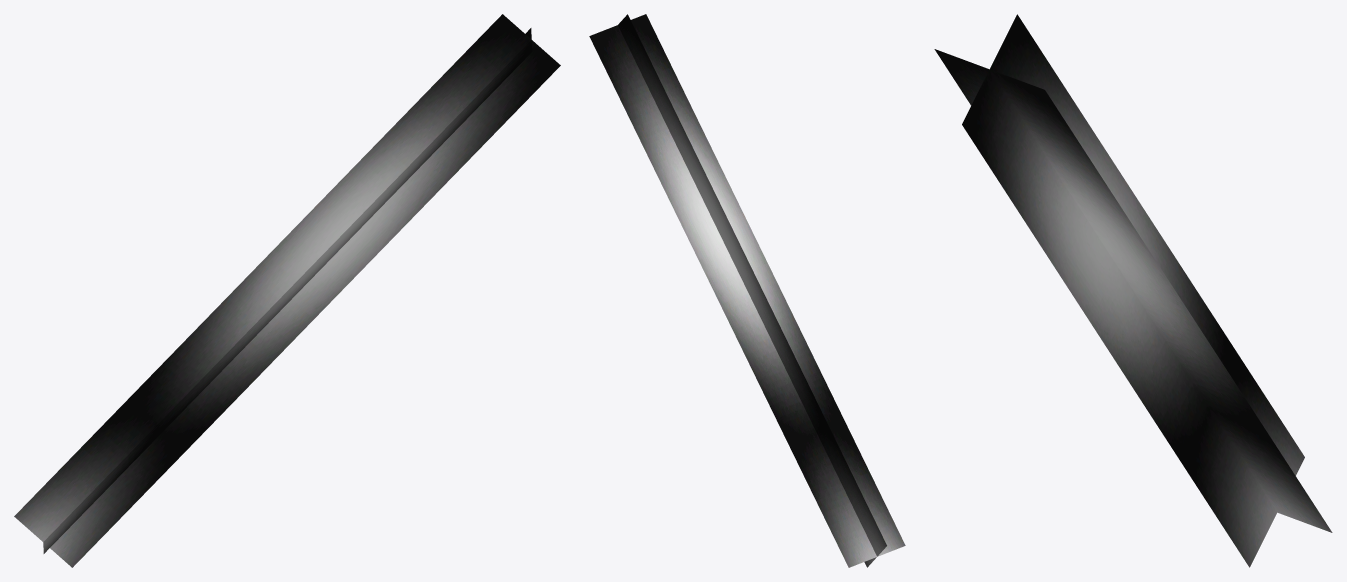
The model's file is vfx_kurp_0773.dae.
3 renders of one model, left to right at view 1: azimuth 30°, elevation 25°; view 2: azimuth 150°, elevation 25°; view 3: azimuth 270°, elevation 25°, orthographic. The views are drawn at different scales.
Parts seen in each view (by area): view 1: vfx_kurp_0773; view 2: vfx_kurp_0773; view 3: vfx_kurp_0773.
Part boxes in pixels (x1,y1,x2,y2): vfx_kurp_0773: [14, 14, 560, 567]; vfx_kurp_0773: [589, 14, 905, 567]; vfx_kurp_0773: [934, 14, 1332, 567].
Bounding box in the file's own units: 1.15 × 0.5609 × 1.3.
1 material, 1 textured.
